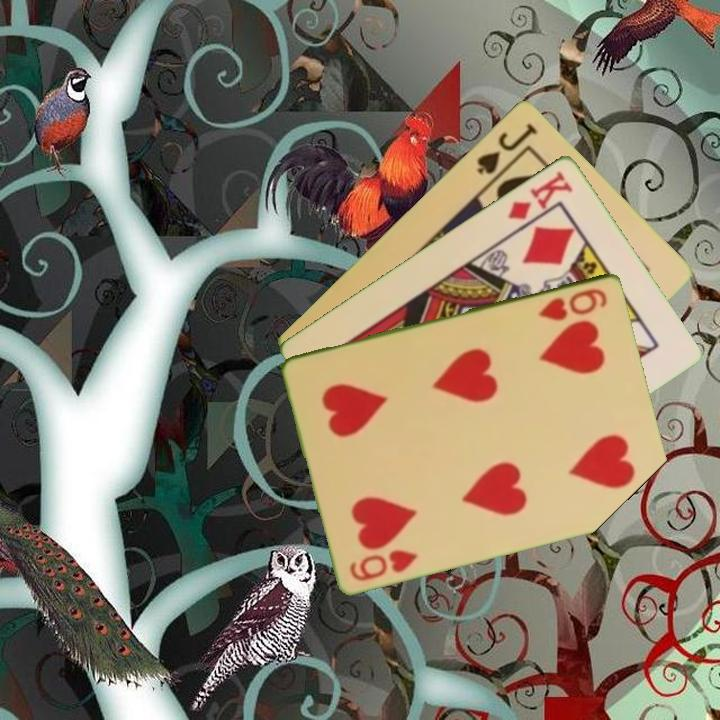6h: (535, 284, 611, 324), (346, 545, 421, 584)
Js: (473, 119, 540, 177)
Kd: (504, 166, 576, 222)
